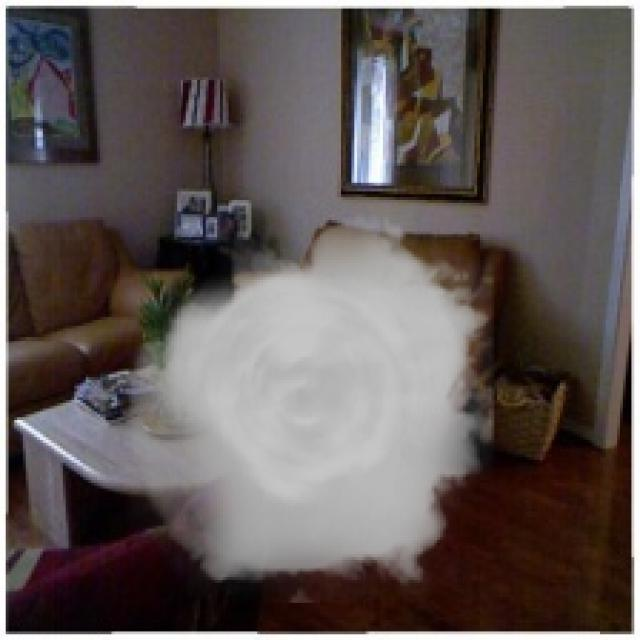Smoke: (126, 203, 494, 603)
